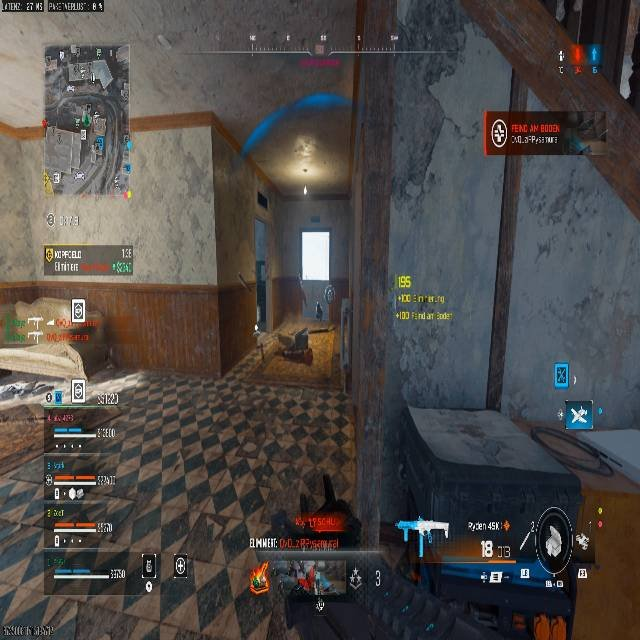player: (315, 301, 323, 320)
